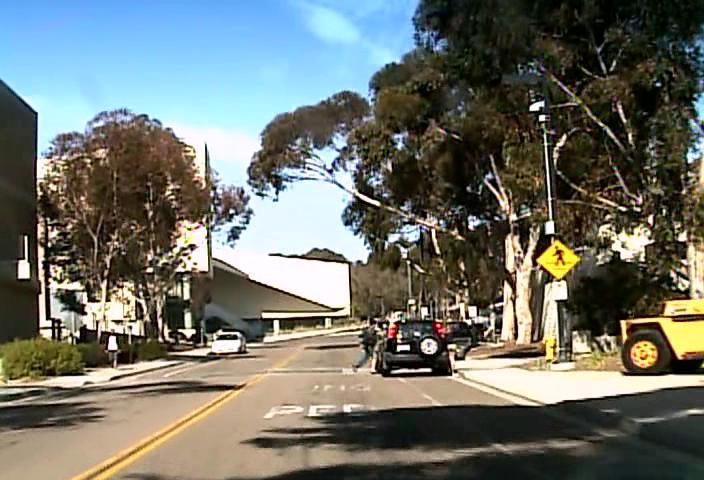pedestrianCrossing: (535, 239, 580, 280)
